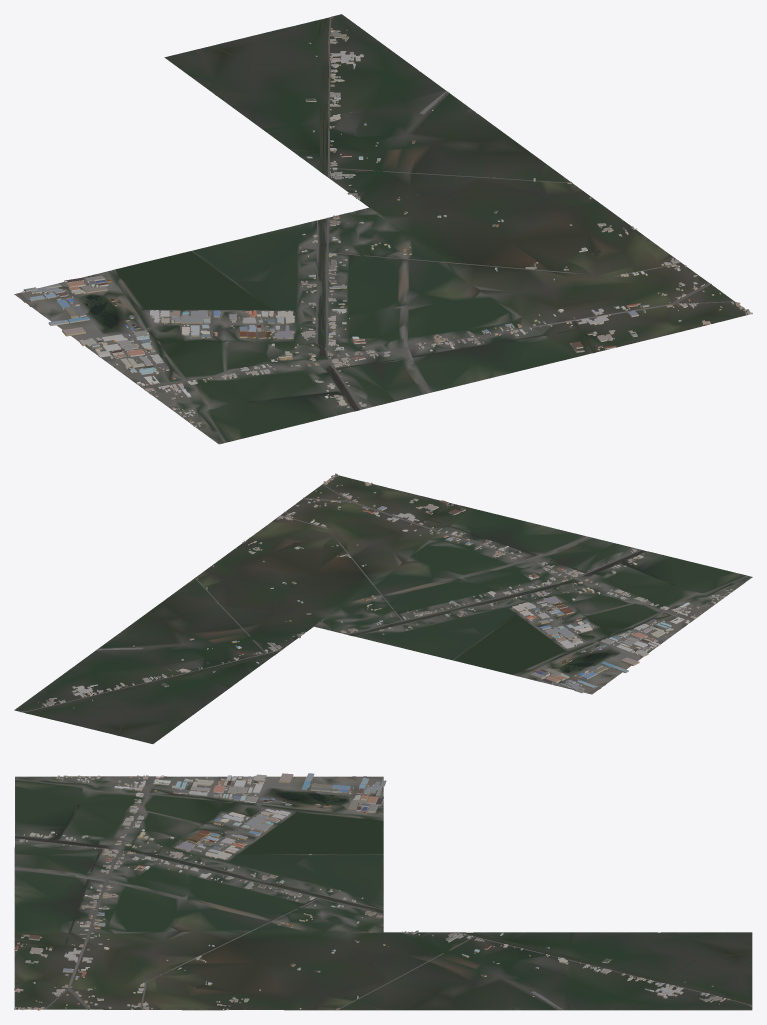
3 renders of one model, top to bottom at view 1: azimuth 30°, elevation 25°; view 2: azimuth 150°, elevation 25°; view 3: azimuth 270°, elevation 25°, orthographic. The views are drawn at different scales.
Visible parts, largest first — view 1: ground, buildings, roads, water; view 2: ground, buildings, roads, water; view 3: ground, buildings, roads, water.
Part boxes in pixels (x1,y1,x2,y2): ground: (14, 14, 748, 444); buildings: (22, 28, 752, 426); roads: (17, 16, 734, 409); water: (84, 18, 600, 411); ground: (14, 475, 752, 743); buildings: (38, 473, 734, 708); roads: (20, 484, 712, 712); water: (25, 505, 673, 735); ground: (14, 776, 752, 1010); buildings: (14, 773, 729, 1010); roads: (15, 776, 752, 1010); water: (15, 792, 751, 1004).
Bounding box in the file's own units: 4254 × 28.09 × 5613.
